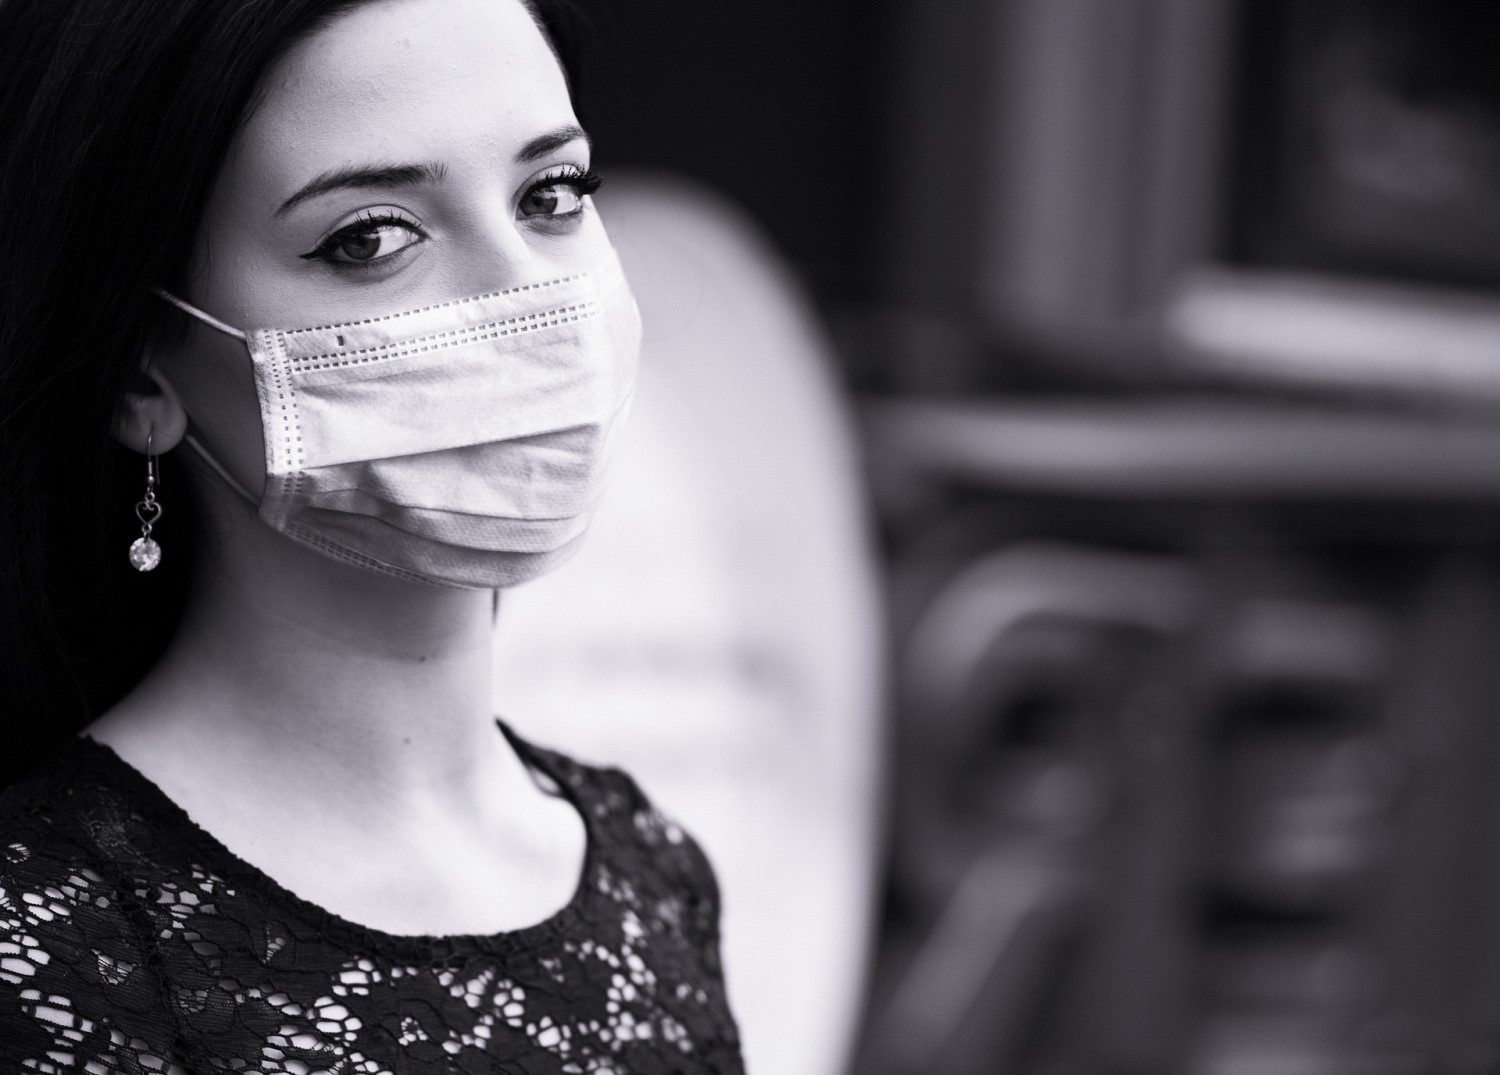face_with_mask: (101, 5, 655, 636)
